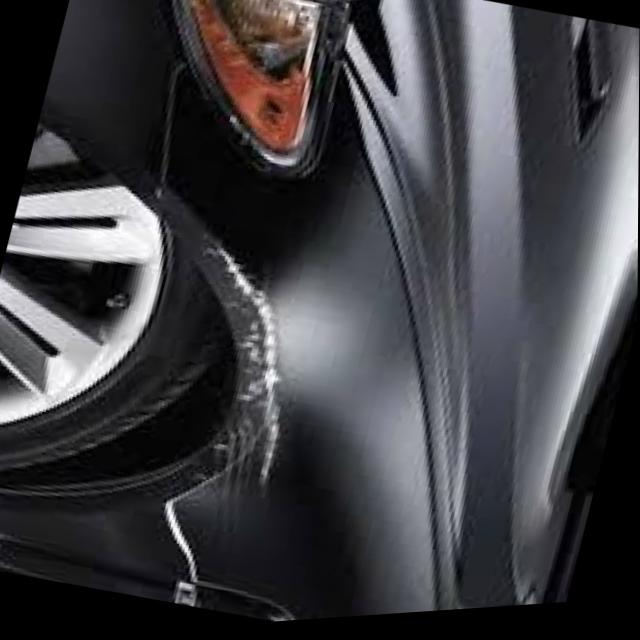Scratch: (153, 252, 303, 515)
